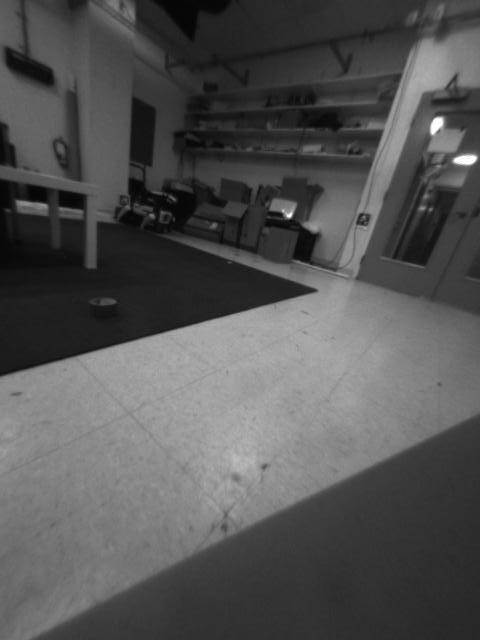dogtoy: (74, 289, 126, 322)
